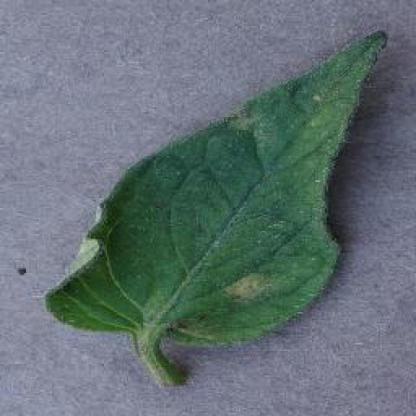Tomato_Leaf_Mold: (49, 29, 386, 340)
